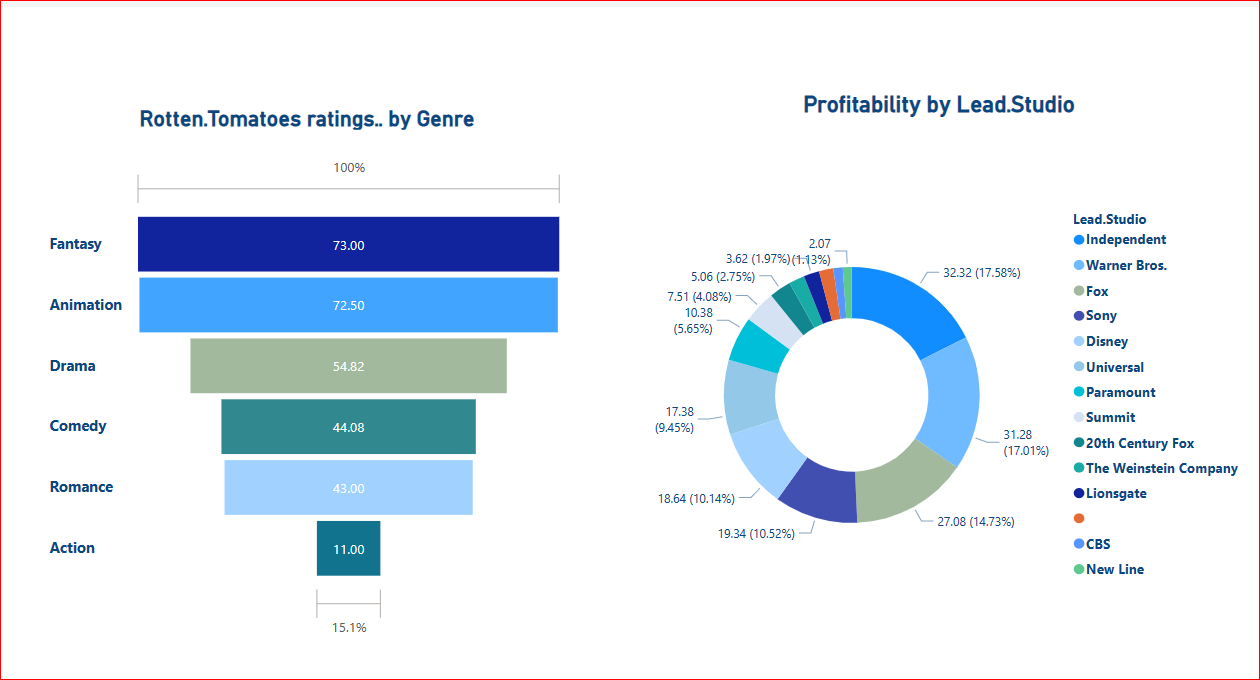

This screenshot's page, from the dashboard's own definition file:
{"tool":"powerbi","page":{"name":"Page 1","canvas":[1280,720],"ordinal":0},"visuals":[{"type":"funnel","title":"Rotten.Tomatoes ratings.. by Genre","fields":{"Y":["Avg(clean_df.Rotten.Tomatoes..)"],"Category":["clean_df.Genre"]},"box":[59,98.8,524.2,555.7],"z":0},{"type":"donutChart","title":"Profitability by Lead.Studio","fields":{"Y":["Sum(clean_df.Profitability)"],"Category":["clean_df.Lead.Studio"]},"box":[639.5,83.7,625.7,581.8],"z":1000}]}

Visuals, with their boxes on the page's 1280x720 design canvas (x1, y1, x2, y2). These are canvas units, not pixel positions in the 1260x680 screenshot, which may show the page scaled, cropped or inside an application window:
"Rotten.Tomatoes ratings.. by Genre" funnel: pyautogui.locateOnScreen(59, 99, 583, 654)
"Profitability by Lead.Studio" donutChart: pyautogui.locateOnScreen(640, 84, 1265, 666)
